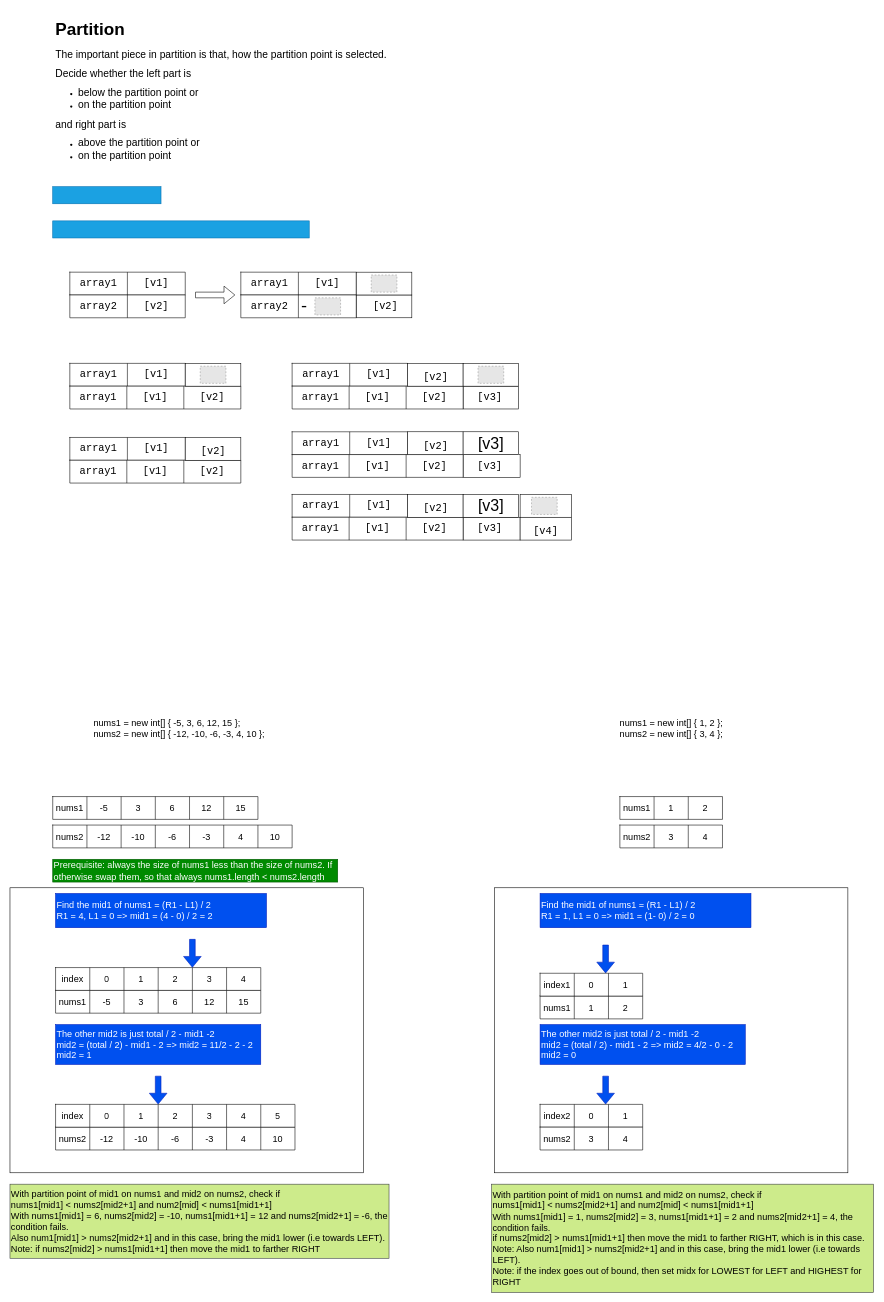
This 884x1302 diagram has some shape labels left out. Grey dashed boxes stand in for pictures. The shapes that lost their labels are listed below. From the top down, each one's box as (x1, y1, x2, y2) in pixels, then its label:
(52, 186, 161, 204): Case 1: Ignore it
(52, 220, 309, 238): Case 2: array1.length = 1 and array2.length = 1
